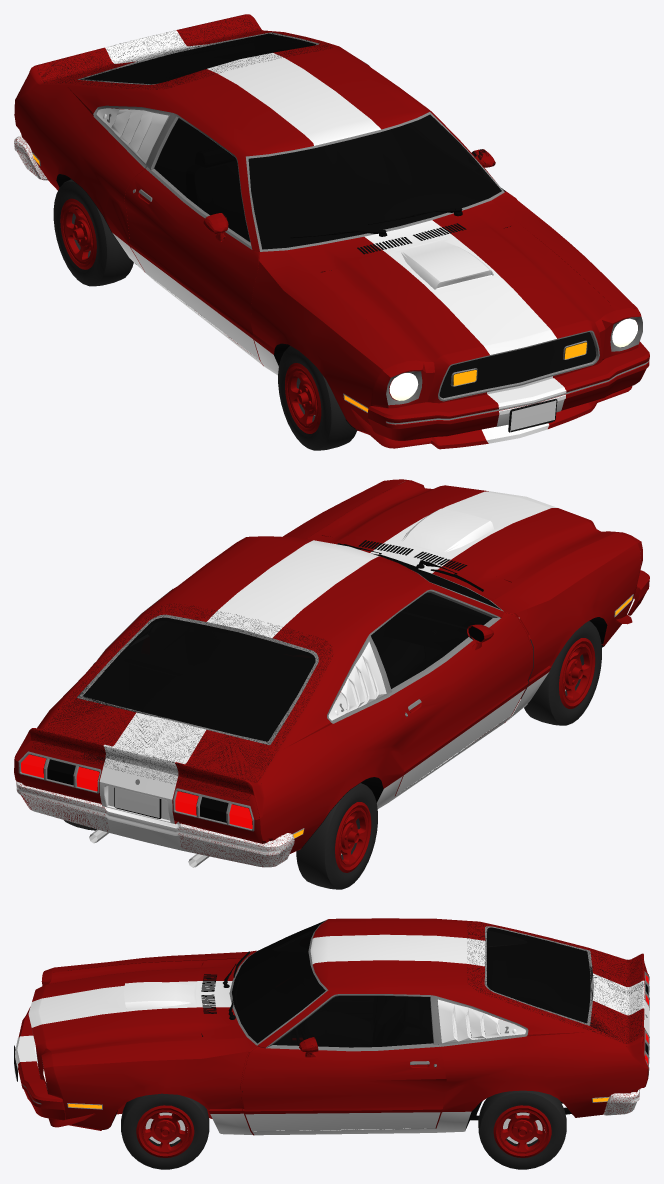
File: Coupe.FBX
3 renders of one model, top to bottom at view 1: azimuth 30°, elevation 25°; view 2: azimuth 150°, elevation 25°; view 3: azimuth 270°, elevation 25°, orthographic. The views are drawn at different scales.
Parts seen in each view (by area): view 1: Body, Hood, Front Bumper, Front Window, Right Door, Right Fender, Trunk, Wheel_RR, Wheel_FR, Left Fender, Front Bumper Lip, Rear Sidewindows (+1 smaller); view 2: Body, Trunk, Right Door, Hood, Right Fender, Rear Bumper, Wheel_RR, Wheel_FR, Rear Sidewindows, Chrome Parts, Brake Lights, Left Fender (+2 smaller); view 3: Body, Left Door, Trunk, Left Fender, Hood, Front Window, Wheel_RL, Wheel_FL, Front Bumper, Rear Sidewindows, Chrome Parts, Right Fender (+2 smaller).
Part boxes in pixels (x1,y1,x2,y2): Body: (14, 14, 617, 431); Hood: (315, 224, 615, 361); Front Bumper: (355, 308, 649, 440); Front Window: (248, 114, 501, 249); Right Door: (124, 118, 259, 359); Right Fender: (251, 250, 418, 432); Trunk: (35, 14, 334, 89); Wheel_RR: (53, 179, 133, 286); Wheel_FR: (278, 346, 356, 450); Left Fender: (492, 192, 637, 347); Front Bumper Lip: (351, 386, 632, 449); Rear Sidewindows: (93, 59, 369, 168); Body: (14, 481, 615, 867); Trunk: (31, 602, 333, 801); Right Door: (371, 593, 532, 795); Hood: (315, 481, 615, 584); Right Fender: (492, 532, 640, 721); Rear Bumper: (16, 781, 294, 867); Wheel_RR: (296, 783, 377, 889); Wheel_FR: (521, 621, 601, 725); Rear Sidewindows: (94, 589, 389, 723); Chrome Parts: (18, 483, 503, 838); Brake Lights: (21, 754, 252, 828); Left Fender: (282, 479, 404, 538); Body: (52, 918, 649, 1135); Left Door: (242, 996, 445, 1131); Trunk: (467, 922, 644, 1045); Left Fender: (43, 1037, 256, 1135); Hood: (39, 961, 202, 1053); Front Window: (232, 921, 325, 1043); Wheel_RL: (478, 1090, 566, 1169); Wheel_FL: (121, 1093, 209, 1169); Front Bumper: (14, 968, 101, 1130); Rear Sidewindows: (434, 996, 528, 1046); Chrome Parts: (229, 919, 649, 1102); Right Fender: (52, 950, 256, 972).
Size of the model in its own units: 2.1 by 1.51 by 5.05.
